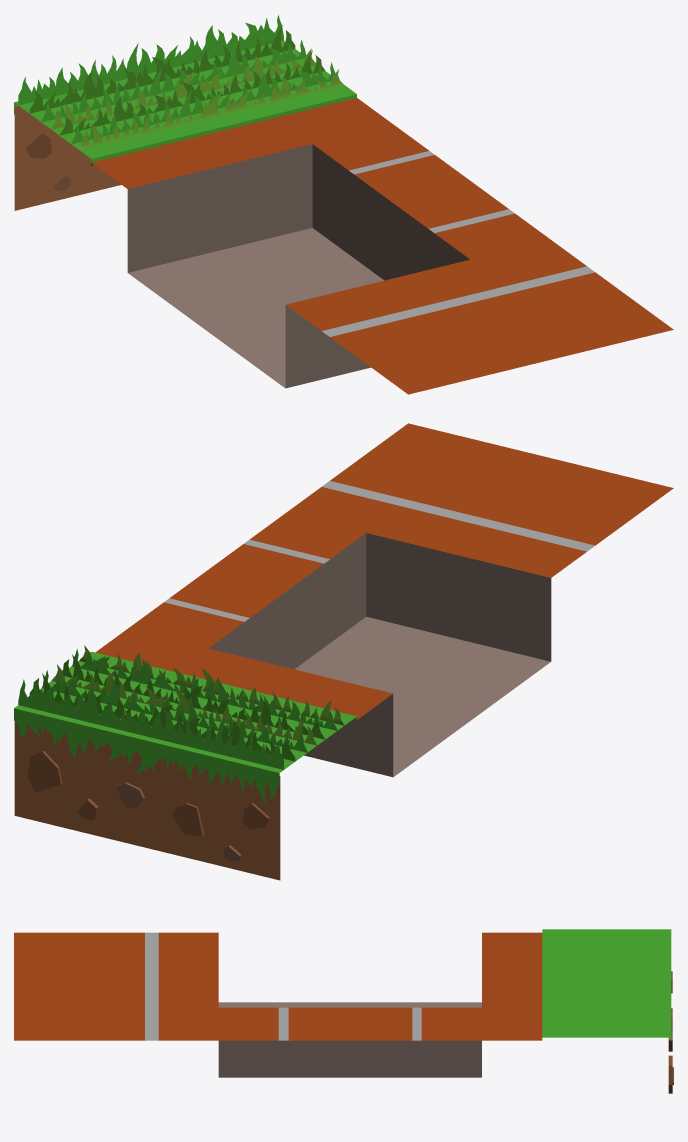
File: ground_water_mid_02.fbx
The picture shows the model from 3 angles, top to bottom: view 1: azimuth 30°, elevation 25°; view 2: azimuth 150°, elevation 25°; view 3: azimuth 270°, elevation 25°; orthographic projection. The views are drawn at different scales.
Visible parts, largest first — view 1: ground_water_mid_02, ground_water_mid_grass_02; view 2: ground_water_mid_02, ground_water_mid_grass_02; view 3: ground_water_mid_02.
Boxes of the visible parts, box(x1,y1,x2,y2) form: ground_water_mid_02: box(14, 40, 673, 394); ground_water_mid_grass_02: box(14, 15, 343, 149); ground_water_mid_02: box(14, 423, 673, 880); ground_water_mid_grass_02: box(14, 645, 344, 804); ground_water_mid_02: box(14, 929, 673, 1093).
Size of the model in its own units: 595 by 303 by 1537.
